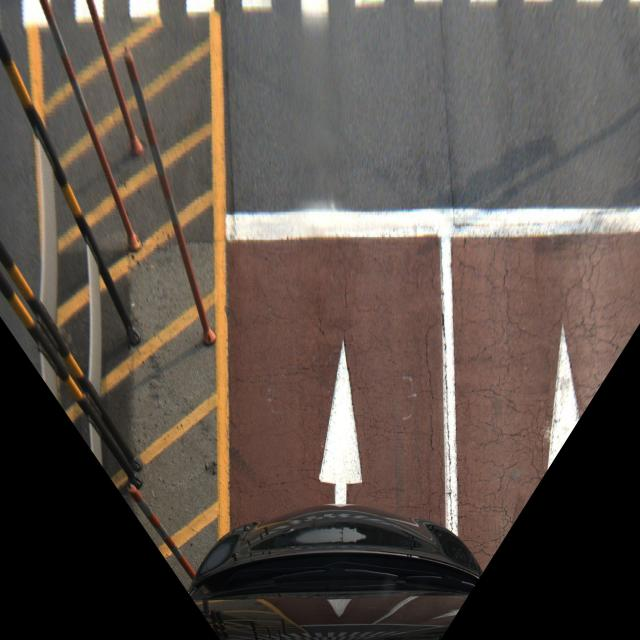forward: (223, 210, 458, 524)
